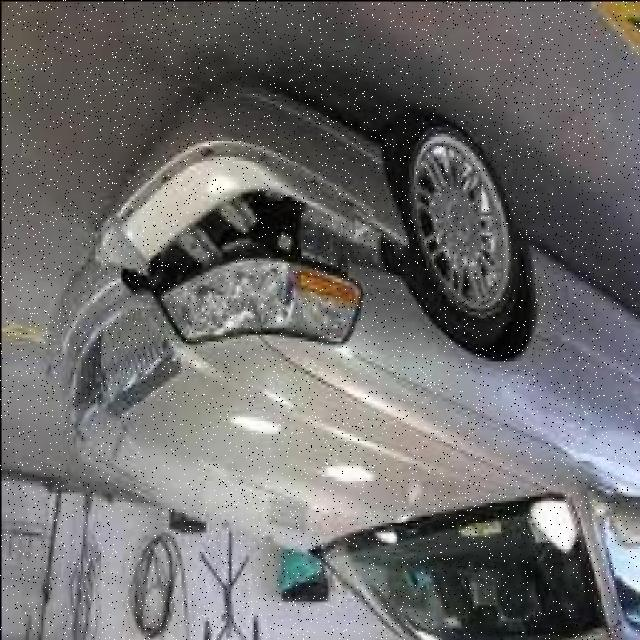damage: (98, 140, 408, 296)
